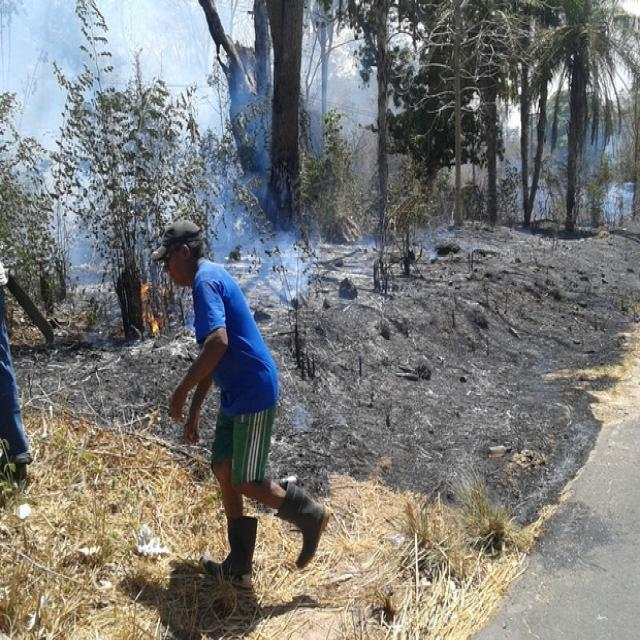Fire: (132, 270, 164, 346)
Smoke: (212, 42, 339, 306)
